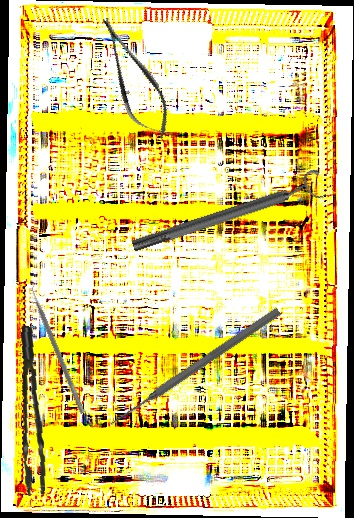Fixation Ring: (127, 168, 328, 260)
Micro Scissor: (87, 9, 181, 147)
Pusher: (106, 305, 283, 430)
Spatula Surgical: (25, 280, 91, 415)
Tissue Forceps: (10, 326, 56, 497)
